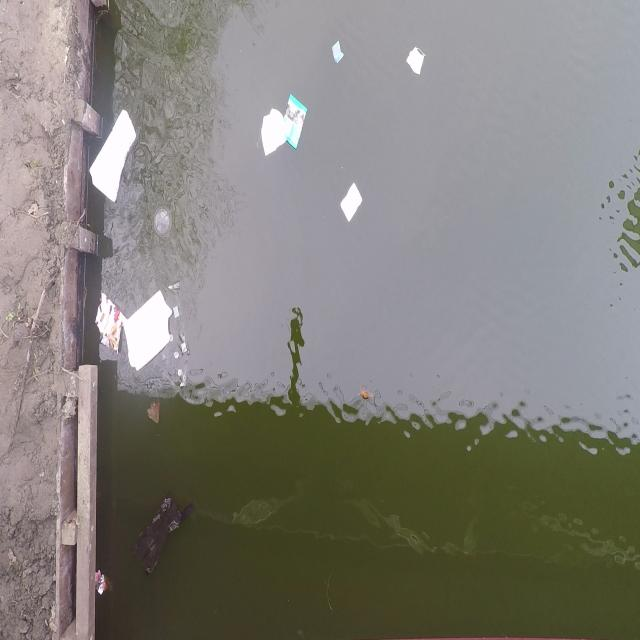Autre plastique: (92, 289, 126, 356), (282, 92, 310, 153), (339, 180, 367, 229), (153, 205, 174, 245)
Non plastique: (404, 41, 429, 81)
Sac plastique: (132, 487, 192, 583)
